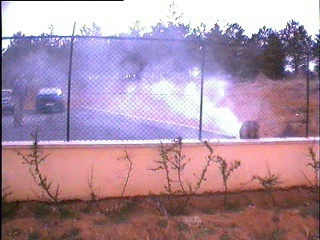smoke: (77, 26, 250, 138)
